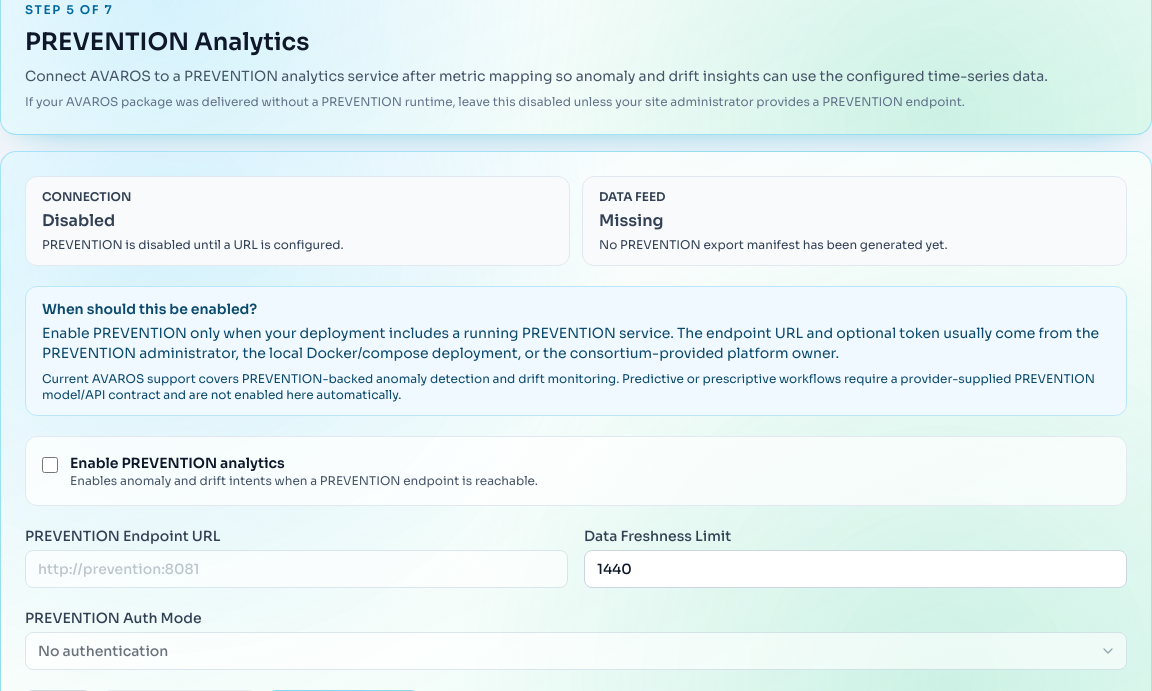
Test: PreventionAnalyticsStep › requires endpoint URL when enabled
This screenshot has width=1152, height=691.
Click the checkbox labelled "Enable PREVENTION analytics". click: point(50, 465)
box: [42,457,58,473]
(page scrolled)
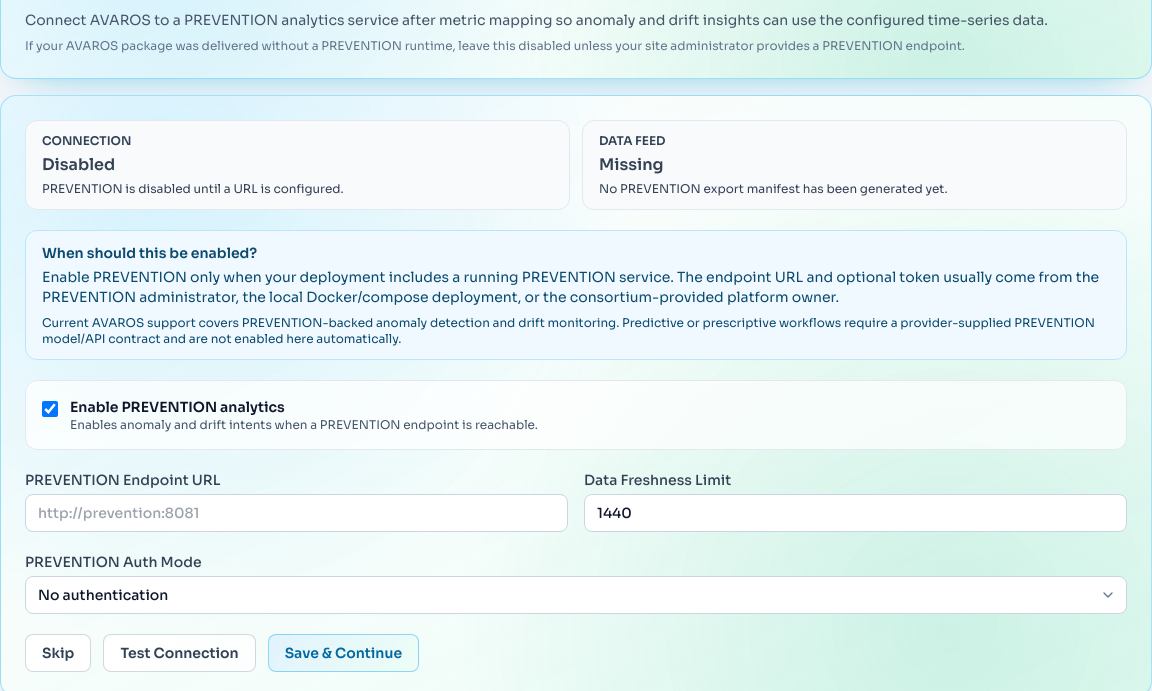
Click the button "Save & Continue". click: point(343, 653)
box: [268,634,419,672]
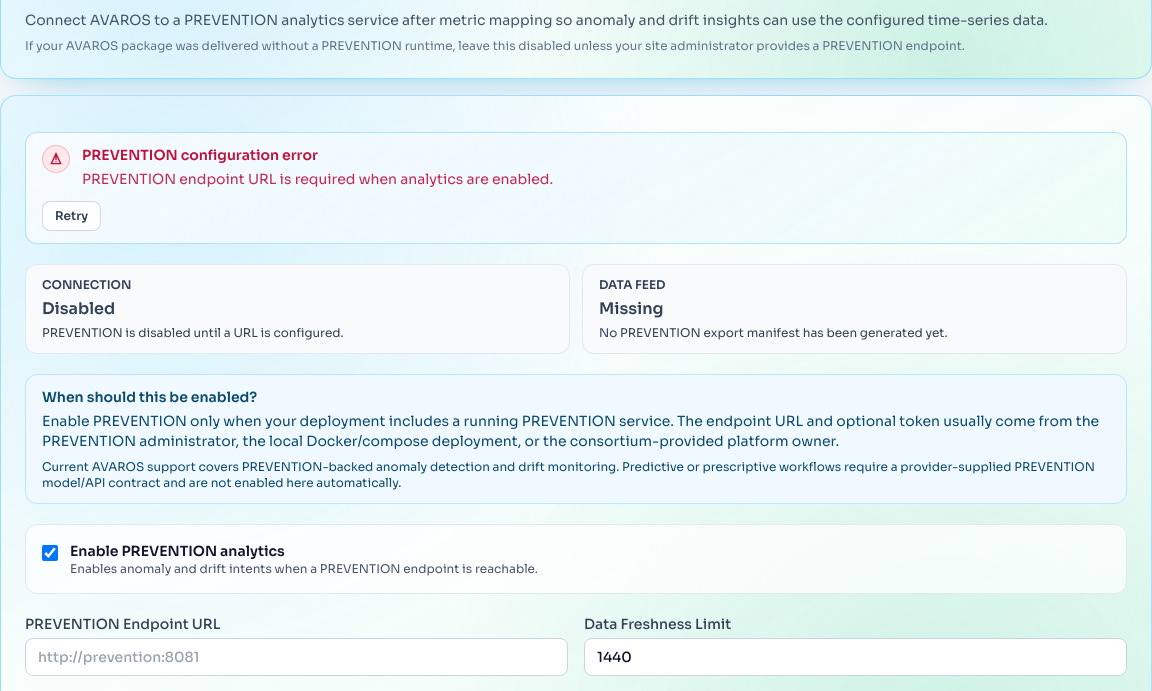
Result: the text "PREVENTION endpoint URL is required when analytics are enabled." is shown at [82,169,553,189]
